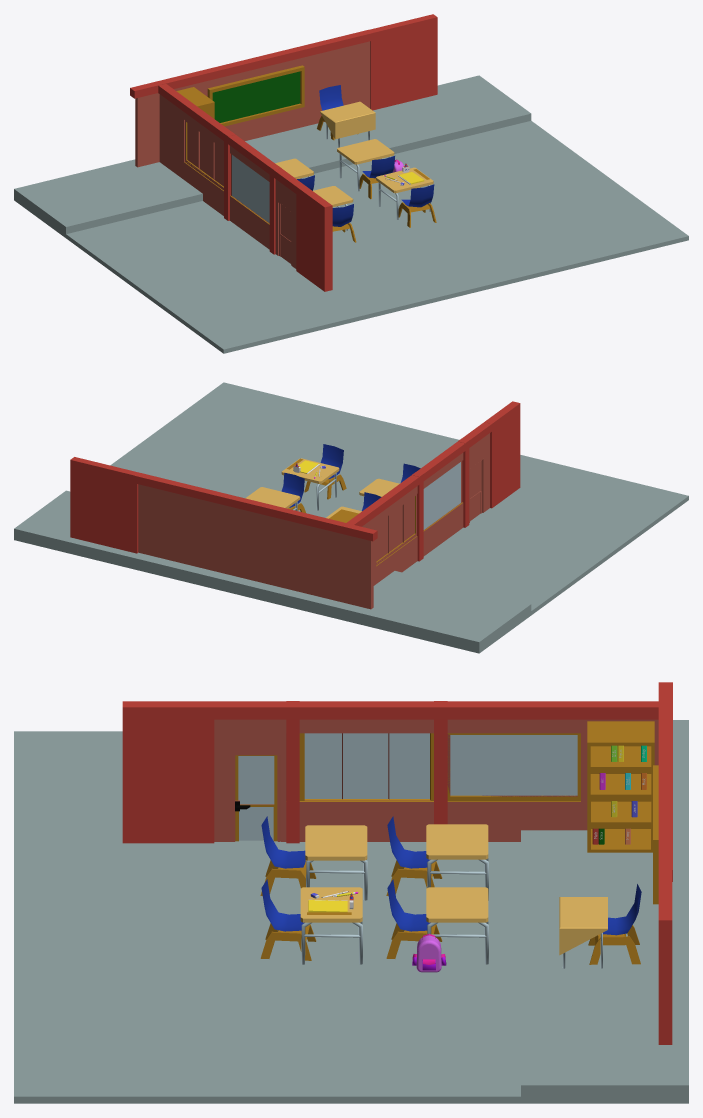
Rendered from Escuela_Interior.glb.
3 renders of one model, top to bottom at view 1: azimuth 30°, elevation 25°; view 2: azimuth 150°, elevation 25°; view 3: azimuth 270°, elevation 25°, orthographic. The views are drawn at different scales.
Visible parts, largest first — view 1: Cube, Cube.001, Cube.002, Cube.009, Cube.010, Cube.004, Cube.008, Cube.005, Plane, Plane.017, Plane.015, Plane.016 (+4 smaller); view 2: Cube, Cube.001, Cube.002, Cube.009, Cube.008, Cube.004, Cube.005, Plane, Plane.015, Cube.007, Plane.016, Cube.006 (+3 smaller); view 3: Cube, Cube.002, Cube.004, Plane, Cube.005, Cube.011, Cube.008, Cube.009, Plane.017, Plane.014, Plane.015, Plane.013 (+11 smaller).
Boxes of the visible parts, bbox=[...] form: Cube: bbox=[14, 75, 688, 353]; Cube.001: bbox=[135, 41, 370, 167]; Cube.002: bbox=[159, 94, 296, 268]; Cube.009: bbox=[367, 14, 437, 110]; Cube.010: bbox=[207, 70, 304, 126]; Cube.004: bbox=[296, 185, 332, 291]; Cube.008: bbox=[130, 29, 373, 98]; Cube.005: bbox=[158, 84, 303, 193]; Plane: bbox=[232, 155, 269, 222]; Plane.017: bbox=[320, 101, 375, 139]; Plane.015: bbox=[337, 139, 394, 164]; Plane.016: bbox=[376, 167, 433, 193]; Cube: bbox=[14, 382, 688, 653]; Cube.001: bbox=[138, 484, 373, 609]; Cube.002: bbox=[362, 433, 489, 585]; Cube.009: bbox=[70, 457, 140, 553]; Cube.008: bbox=[134, 473, 377, 541]; Cube.004: bbox=[484, 401, 520, 508]; Cube.005: bbox=[347, 422, 491, 526]; Plane: bbox=[423, 462, 460, 529]; Plane.015: bbox=[245, 487, 300, 508]; Cube.007: bbox=[458, 438, 469, 527]; Plane.016: bbox=[281, 458, 339, 483]; Cube.006: bbox=[412, 472, 423, 561]; Cube: bbox=[14, 720, 688, 1103]; Cube.002: bbox=[214, 719, 658, 841]; Cube.004: bbox=[122, 701, 214, 843]; Plane: bbox=[304, 733, 429, 798]; Cube.005: bbox=[209, 701, 658, 719]; Cube.011: bbox=[587, 721, 654, 852]; Cube.008: bbox=[658, 682, 672, 881]; Cube.009: bbox=[658, 868, 672, 1044]; Plane.017: bbox=[559, 897, 607, 955]; Plane.014: bbox=[426, 824, 488, 859]; Plane.015: bbox=[426, 887, 488, 922]; Plane.013: bbox=[305, 825, 367, 860].
Bounding box in the file's own units: 34.35 × 6.47 × 26.82.
